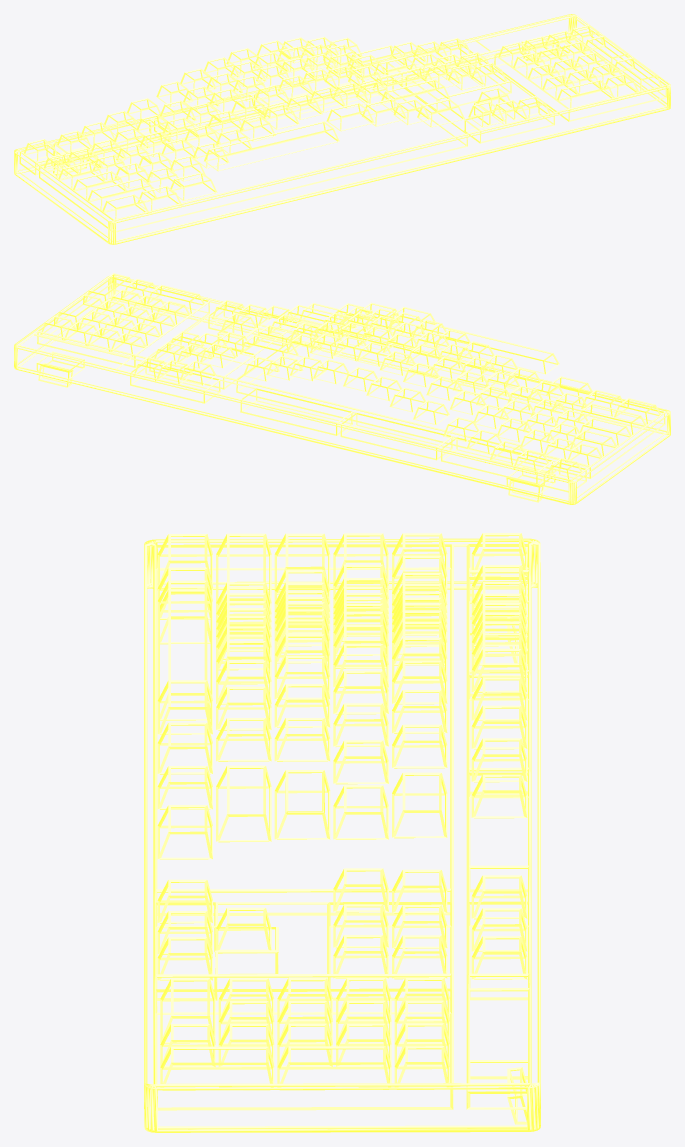
Rendered from keyboard_exploded_wireframe.gltf.
3 renders of one model, top to bottom at view 1: azimuth 30°, elevation 25°; view 2: azimuth 150°, elevation 25°; view 3: azimuth 270°, elevation 25°, orthographic. The views are drawn at different scales.
Visible parts, largest first — view 1: Whole Keyboard, Keys.069, Keys.054, Keys.053, Keys.065, Keys.087, Keys.092, Keys.099, Keys.041, Keys.071, Keys.068, Keys.026 (+3 smaller); view 2: Whole Keyboard, Keys.069, Keys.054, Keys.092, Keys.026, Keys.099, Keys.087, Keys.053, Keys.041; view 3: Whole Keyboard, Keys.069, Keys.092, Keys.099, Keys.065, Keys.053, Keys.026, Keys.073, Keys.087, Keys.072, Keys.040, Keys.071 (+53 smaller).
Part boxes in pixels (x1,y1,x2,y2): Whole Keyboard: (14, 14, 670, 244); Keys.069: (204, 121, 339, 171); Keys.054: (87, 178, 156, 211); Keys.053: (372, 67, 435, 99); Keys.065: (380, 79, 450, 112); Keys.087: (557, 79, 615, 110); Keys.092: (612, 57, 663, 93); Keys.099: (583, 35, 633, 71); Keys.041: (73, 171, 126, 200); Keys.071: (326, 102, 374, 131); Keys.068: (169, 172, 217, 200); Keys.026: (347, 45, 405, 76); Whole Keyboard: (14, 275, 670, 504); Keys.069: (424, 325, 559, 374); Keys.054: (577, 403, 646, 435); Keys.092: (84, 273, 135, 308); Keys.026: (240, 335, 298, 365); Keys.099: (55, 294, 105, 329); Keys.087: (146, 284, 204, 313); Keys.053: (269, 314, 332, 345); Keys.041: (578, 417, 631, 446); Whole Keyboard: (144, 538, 540, 1132); Keys.069: (157, 580, 212, 720); Keys.092: (160, 1046, 274, 1090); Keys.099: (277, 1046, 391, 1090); Keys.065: (216, 765, 271, 842); Keys.053: (274, 770, 330, 839); Keys.026: (392, 772, 447, 838); Keys.073: (157, 805, 212, 859); Keys.087: (160, 978, 215, 1043); Keys.072: (157, 722, 212, 774); Keys.040: (333, 785, 388, 839); Keys.071: (157, 680, 212, 734).
Bounding box in the file's own units: 80.91 × 12.57 × 24.74.
